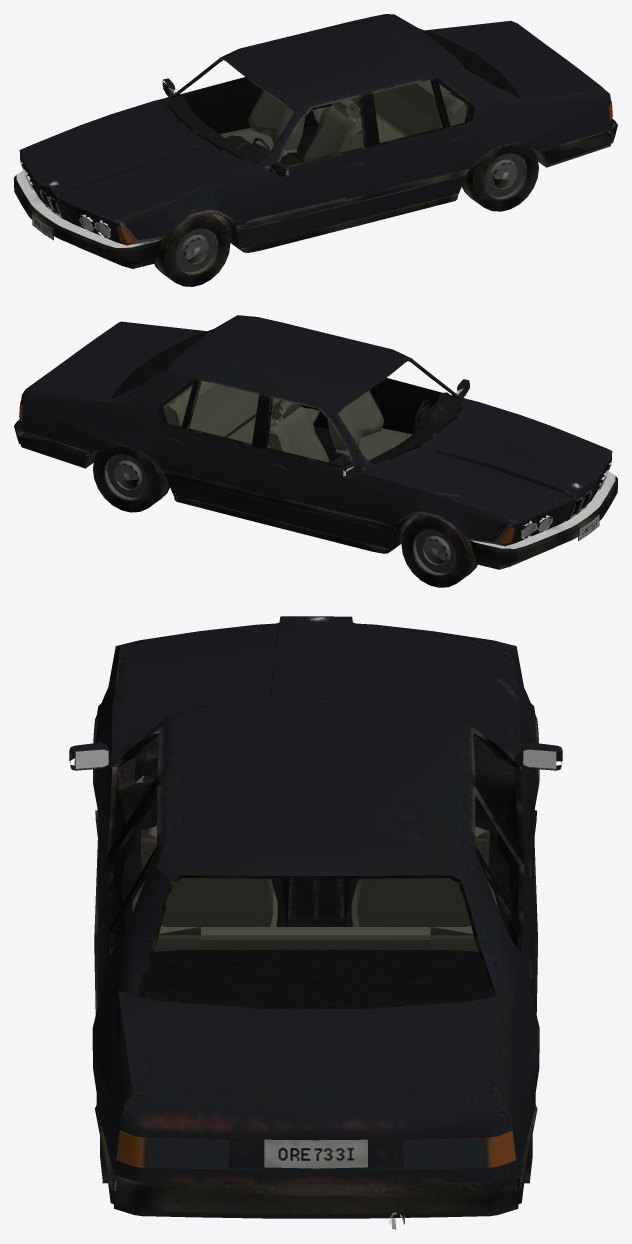
File: bmw733i.glb
3 renders of one model, top to bottom at view 1: azimuth 30°, elevation 25°; view 2: azimuth 150°, elevation 25°; view 3: azimuth 270°, elevation 25°, orthographic. The views are drawn at different scales.
Parts seen in each view (by area): view 1: bmw733i; view 2: bmw733i; view 3: bmw733i.
Part boxes in pixels (x1,y1,x2,y2): bmw733i: [14, 14, 617, 286]; bmw733i: [14, 315, 617, 587]; bmw733i: [69, 616, 562, 1229].
Size of the model in its own units: 4.86 by 1.26 by 1.94.
1 material, 1 textured.
